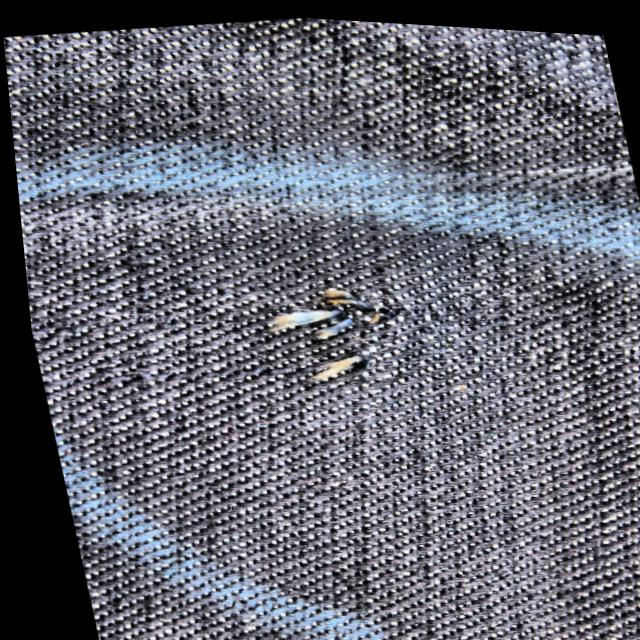Stitch: (210, 249, 426, 413)
